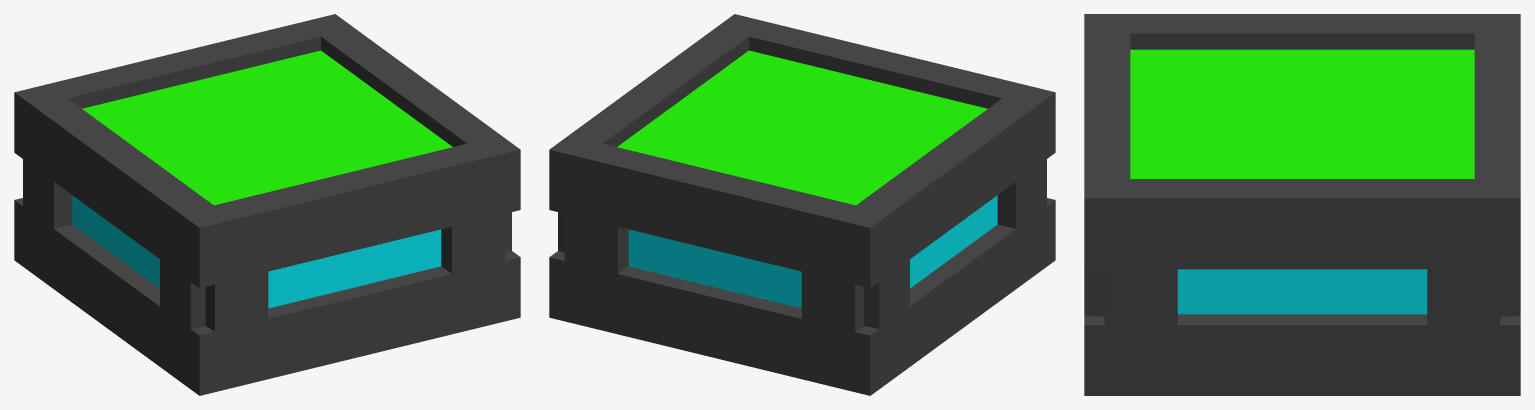
The model's file is Platform O.fbx.
3 views of the same model, side by side, from view 1: azimuth 30°, elevation 25°; view 2: azimuth 150°, elevation 25°; view 3: azimuth 270°, elevation 25° (orthographic). The views are drawn at different scales.
Visible parts, largest first — view 1: Platform O; view 2: Platform O; view 3: Platform O.
Part boxes in pixels (x1=…): Platform O: x1=14, y1=14, x2=520, y2=395; Platform O: x1=549, y1=14, x2=1055, y2=395; Platform O: x1=1084, y1=14, x2=1520, y2=395.
Bounding box in the file's own units: 200 × 99.98 × 200.
